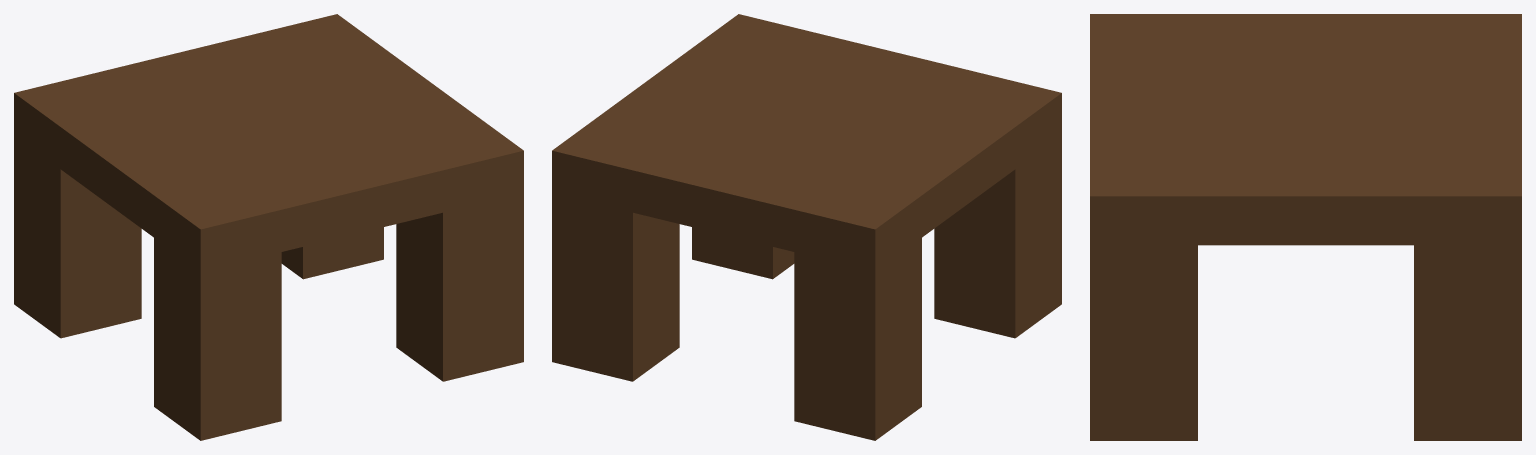
File: table.fbx
3 views of the same model, side by side, from view 1: azimuth 30°, elevation 25°; view 2: azimuth 150°, elevation 25°; view 3: azimuth 270°, elevation 25° (orthographic). The views are drawn at different scales.
Visible parts, largest first — view 1: Plane; view 2: Plane; view 3: Plane.
Boxes of the visible parts, x1=… form: Plane: x1=14, y1=14, x2=523, y2=440; Plane: x1=552, y1=14, x2=1061, y2=440; Plane: x1=1090, y1=14, x2=1521, y2=440.
Bounding box in the file's own units: 400 × 250 × 400.
